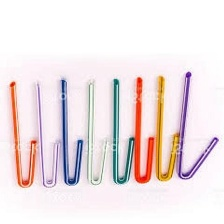drinking_straw: (174, 68, 222, 184), (8, 78, 38, 192), (56, 75, 85, 190), (83, 78, 110, 191), (131, 73, 155, 189)
